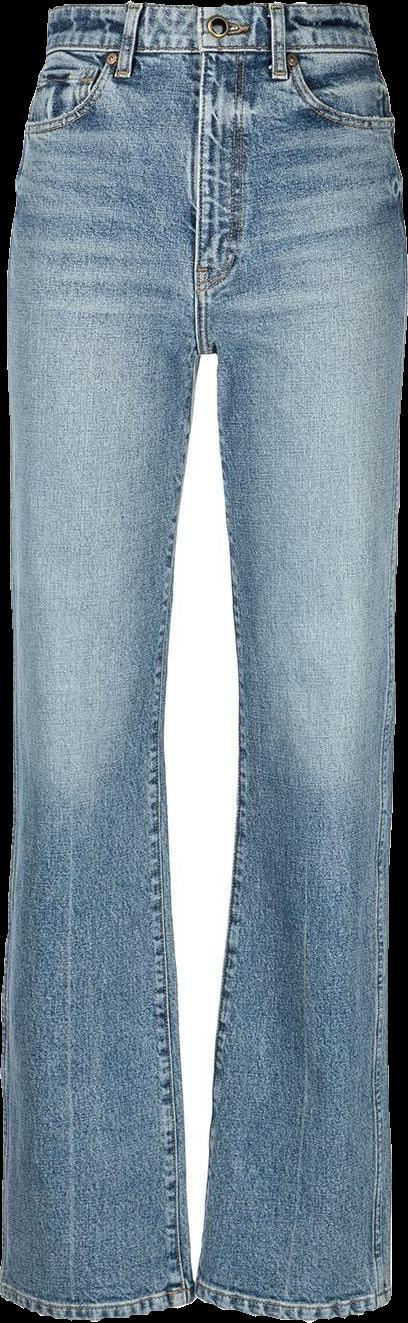Hemline: (193, 1285, 393, 1321), (1, 1285, 196, 1321)
Pantleg: (194, 0, 407, 1319), (0, 3, 209, 1317)
Waistline: (45, 38, 379, 63), (47, 0, 371, 24)
